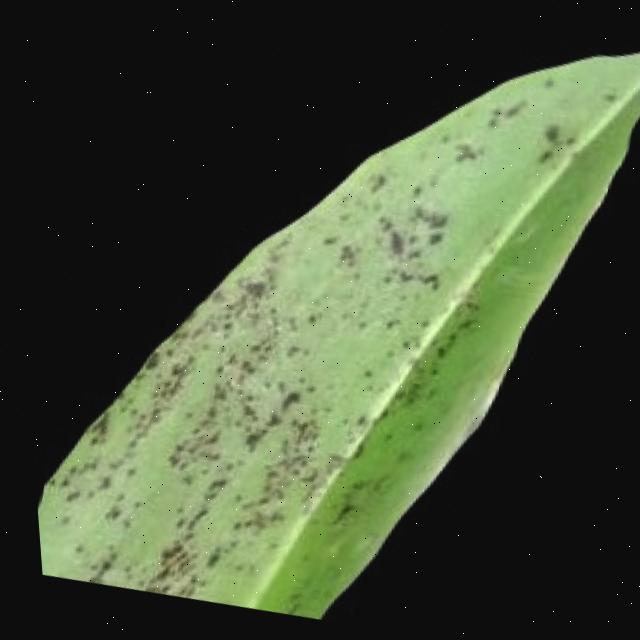mite: (292, 64, 585, 378), (536, 124, 574, 158), (320, 501, 348, 531), (378, 230, 402, 262), (330, 244, 355, 274), (448, 145, 475, 170), (360, 173, 385, 198), (537, 126, 559, 151), (193, 545, 214, 571), (530, 152, 552, 174), (419, 232, 441, 252)
